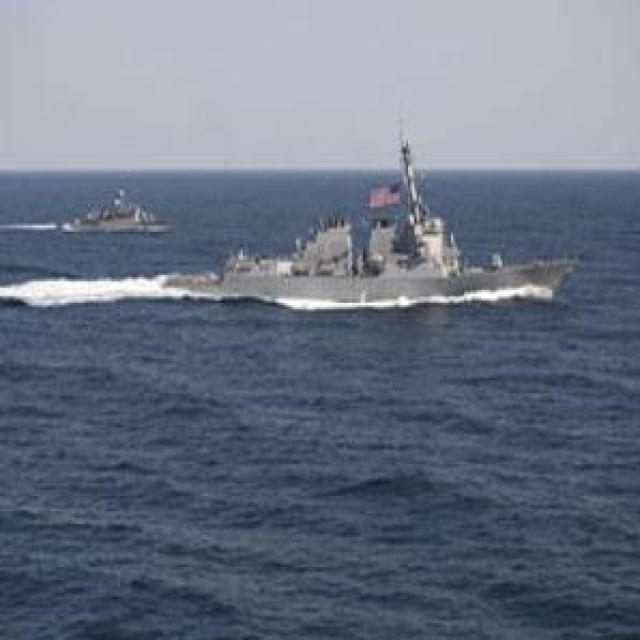navalvessels: (179, 120, 573, 306), (68, 188, 174, 238)
